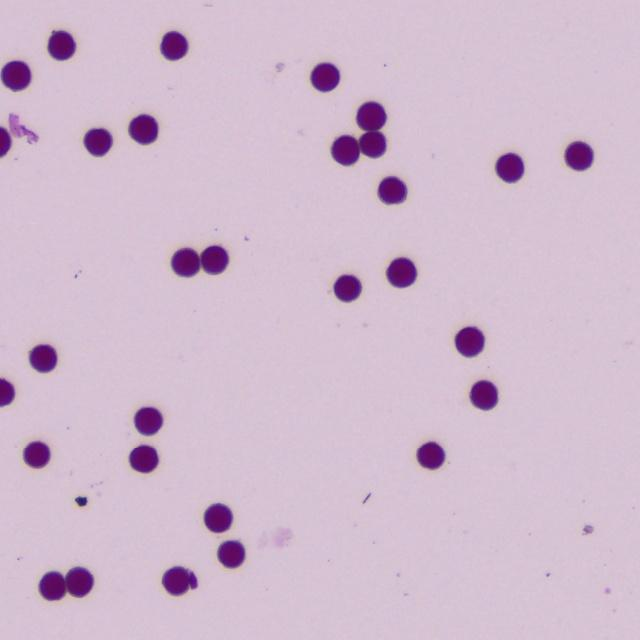viable: (1, 60, 30, 91), (387, 257, 416, 286), (129, 115, 158, 144), (455, 327, 484, 356), (204, 503, 232, 532), (356, 102, 385, 130), (311, 62, 339, 91), (200, 245, 228, 274), (171, 248, 200, 276), (565, 141, 593, 170), (470, 380, 497, 410), (48, 30, 75, 60), (66, 567, 93, 597), (134, 407, 162, 435), (84, 128, 112, 156), (416, 441, 444, 469), (496, 153, 523, 182), (331, 136, 358, 165), (130, 445, 158, 472), (29, 344, 56, 372), (378, 176, 406, 203), (39, 571, 65, 600), (359, 131, 386, 158), (23, 441, 50, 468), (160, 32, 187, 59), (163, 566, 188, 595), (217, 541, 244, 567), (334, 275, 361, 301), (0, 379, 14, 406), (0, 127, 11, 157)
